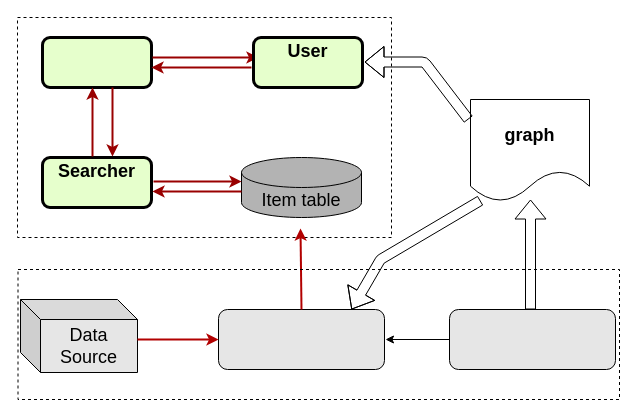
This 637x417 diagram has some shape labels left out. The centre of each missing label's shape, as x and y in pixels:
"build service" goes at [301,339].
"Proxy" goes at [96,62].
"tf_search_models/ biz_gen" goes at [532,339].
